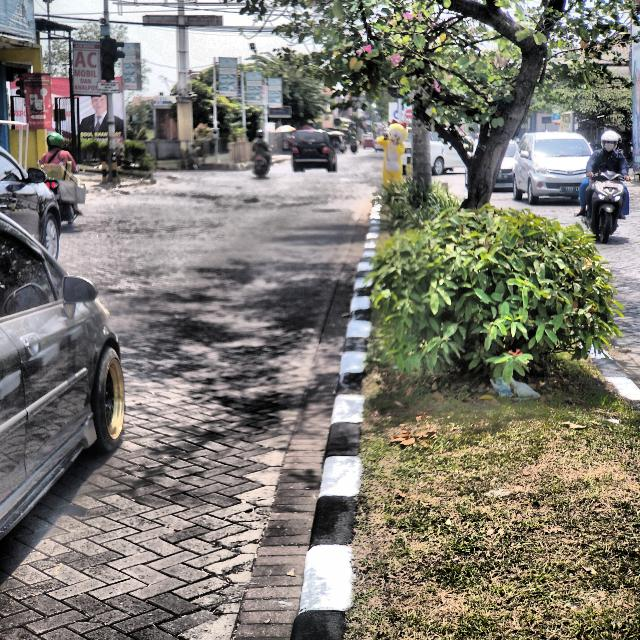yellow: (99, 39, 116, 84)
